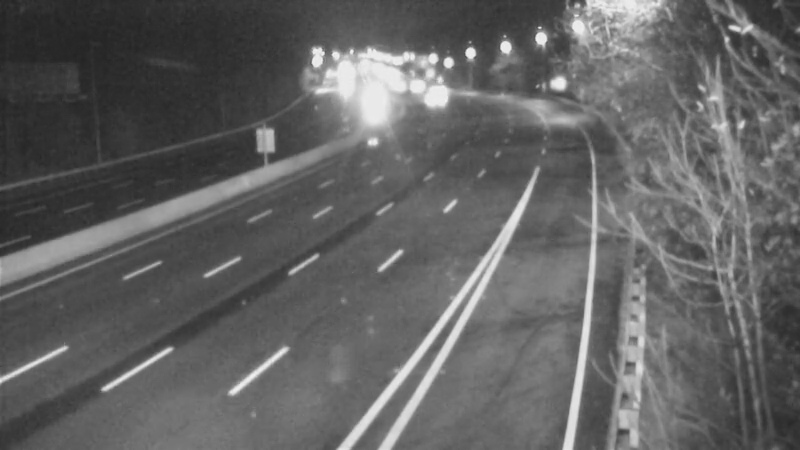vehicle: (389, 57, 439, 107), (407, 74, 457, 124), (347, 77, 397, 127)
